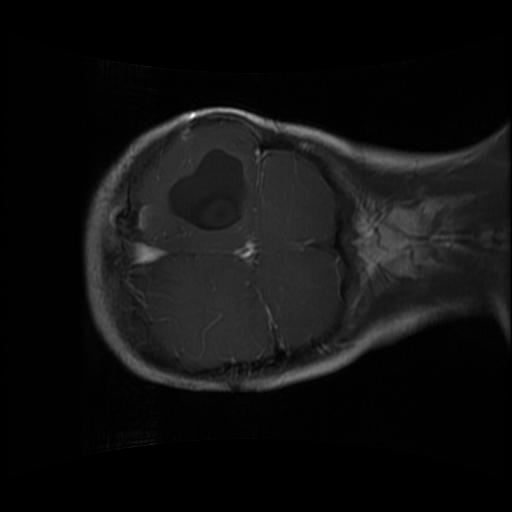glioma: (161, 144, 247, 235)
